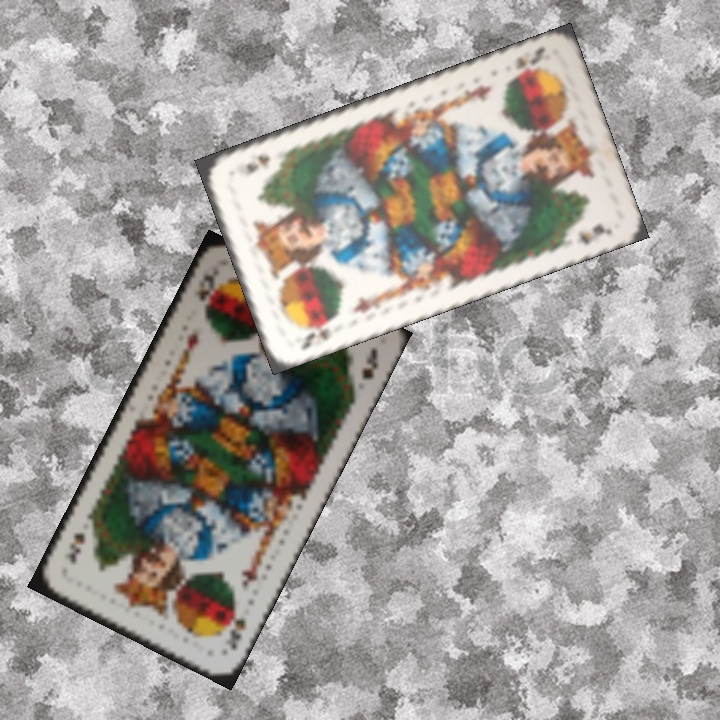SK: (297, 314, 340, 353), (506, 43, 548, 81), (221, 603, 249, 653), (193, 265, 221, 304)
